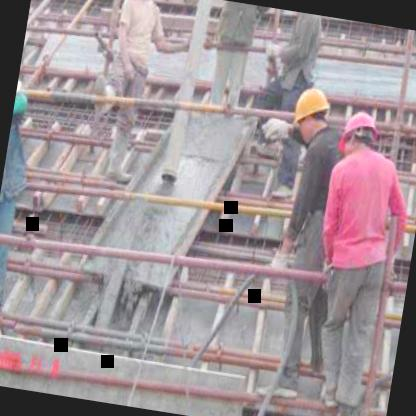helmet: (286, 80, 336, 144), (336, 106, 384, 168)
